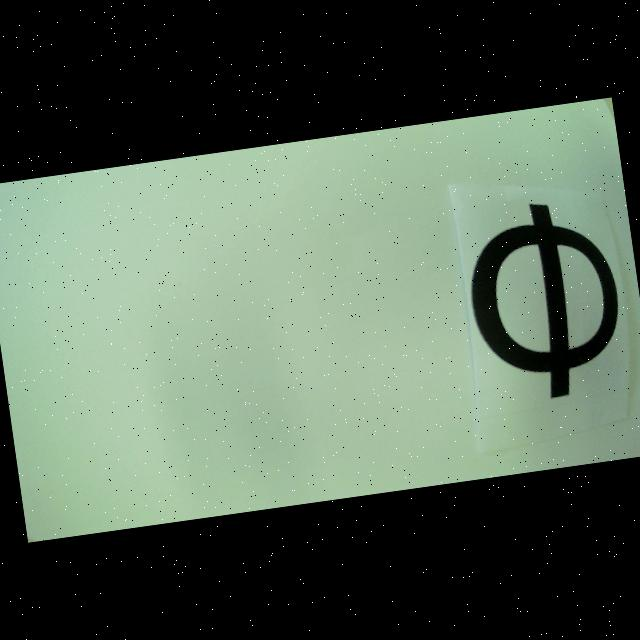PHI: (459, 192, 632, 409)
